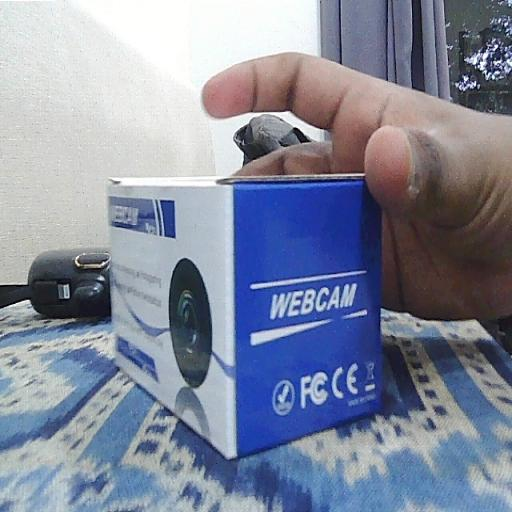webcam_box: (104, 175, 382, 461)
